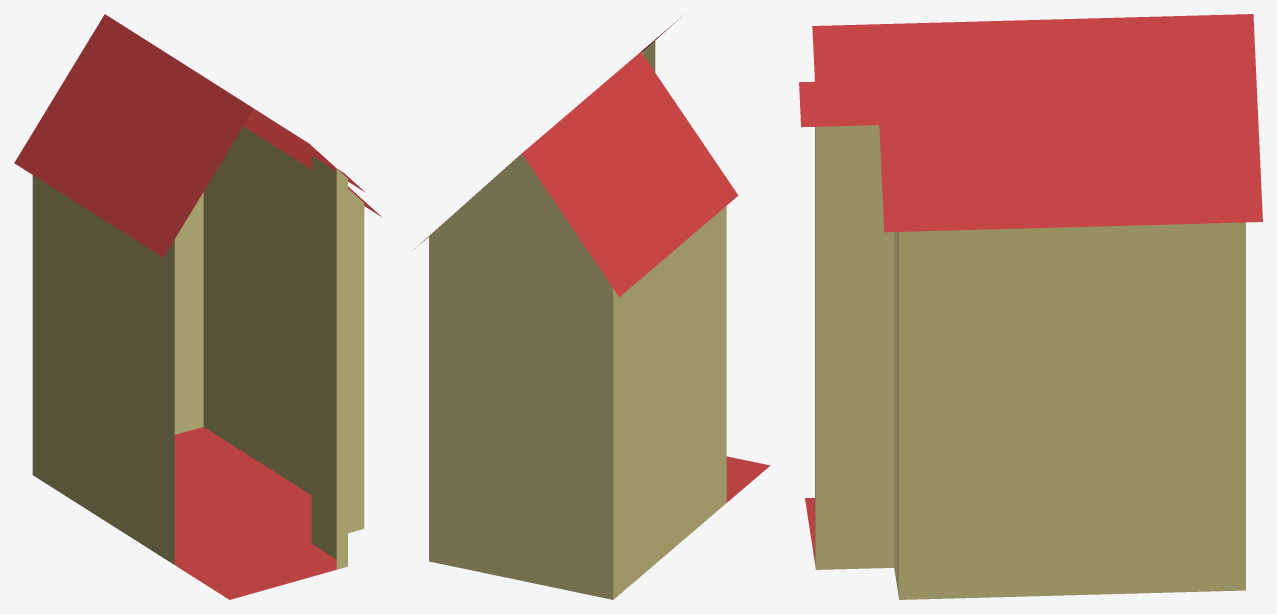
3 views of the same model, side by side, from view 1: azimuth 30°, elevation 25°; view 2: azimuth 150°, elevation 25°; view 3: azimuth 270°, elevation 25° (orthographic). The views are drawn at different scales.
Size of the model in its own units: 4.74 by 7.27 by 9.
